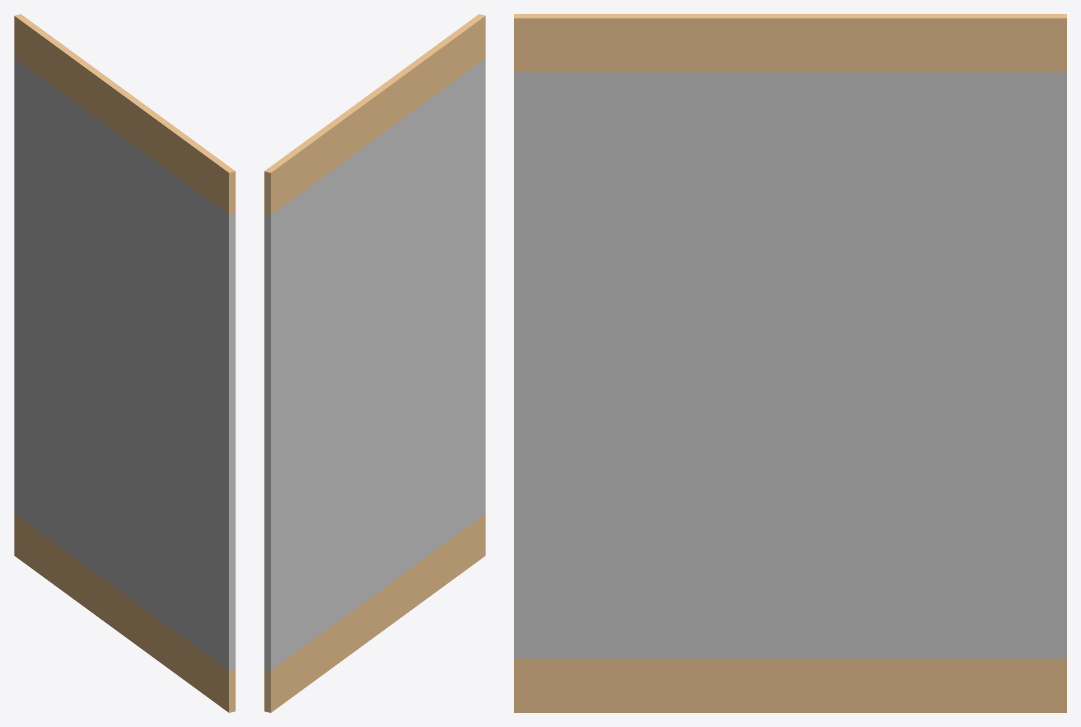
The model's file is ROOM610-CUPBOARD-BODYSET2_link_mesh.dae.
3 renders of one model, left to right at view 1: azimuth 30°, elevation 25°; view 2: azimuth 150°, elevation 25°; view 3: azimuth 270°, elevation 25°, orthographic. The views are drawn at different scales.
Visible parts, largest first — view 1: ROOM610-CUPBOARD-BODYSET2_link (×3); view 2: ROOM610-CUPBOARD-BODYSET2_link (×3); view 3: ROOM610-CUPBOARD-BODYSET2_link (×3).
Part boxes in pixels (x1=…): ROOM610-CUPBOARD-BODYSET2_link (×3): x1=14, y1=14, x2=235, y2=712; ROOM610-CUPBOARD-BODYSET2_link (×3): x1=264, y1=14, x2=485, y2=712; ROOM610-CUPBOARD-BODYSET2_link (×3): x1=514, y1=14, x2=1066, y2=712.
Size of the model in its own units: 0.01 by 0.768 by 0.554.
